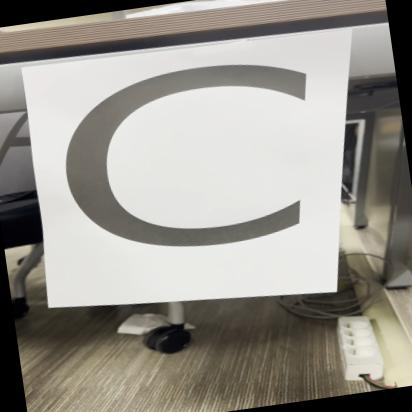seat: (39, 27, 335, 330)
